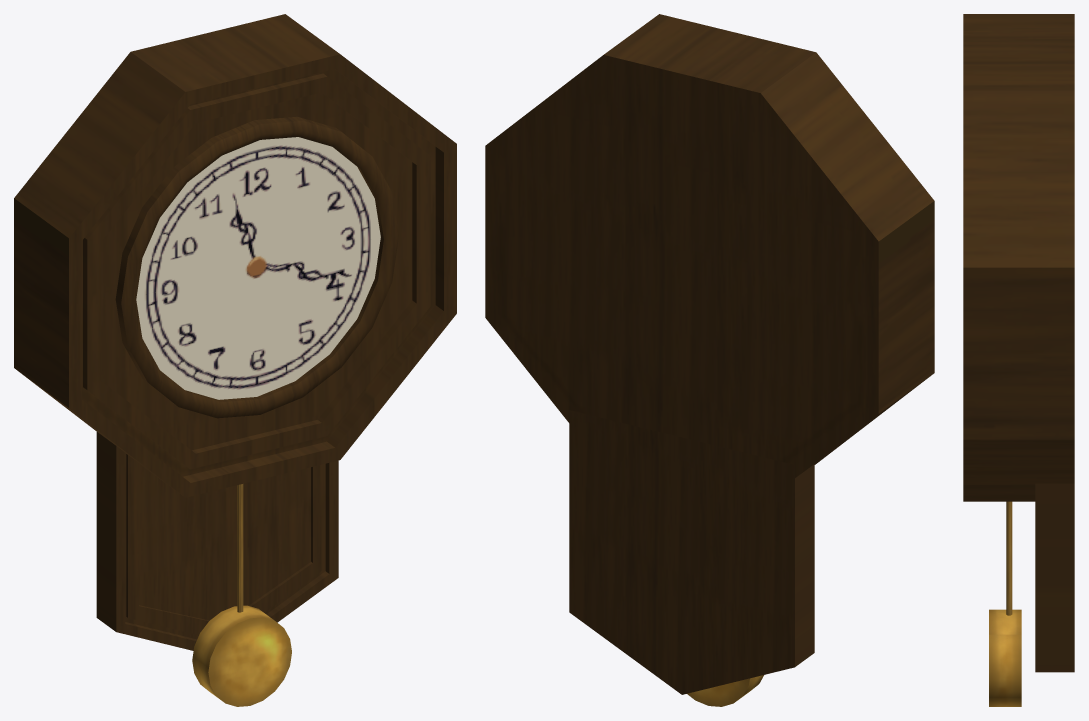
The model's file is hairadokei.fbx.
3 renders of one model, left to right at view 1: azimuth 30°, elevation 25°; view 2: azimuth 150°, elevation 25°; view 3: azimuth 270°, elevation 25°, orthographic.
Parts seen in each view (by area): view 1: tokei, huriko; view 2: tokei, huriko; view 3: tokei, huriko.
Boxes of the visible parts, x1=… form: tokei: x1=14, y1=14, x2=456, y2=650; huriko: x1=192, y1=484, x2=291, y2=706; tokei: x1=485, y1=14, x2=934, y2=694; huriko: x1=687, y1=675, x2=763, y2=706; tokei: x1=963, y1=14, x2=1074, y2=672; huriko: x1=989, y1=501, x2=1021, y2=706.
Bounding box in the file's own units: 14.41 × 22.81 × 3.54.
2 materials, 1 textured.
